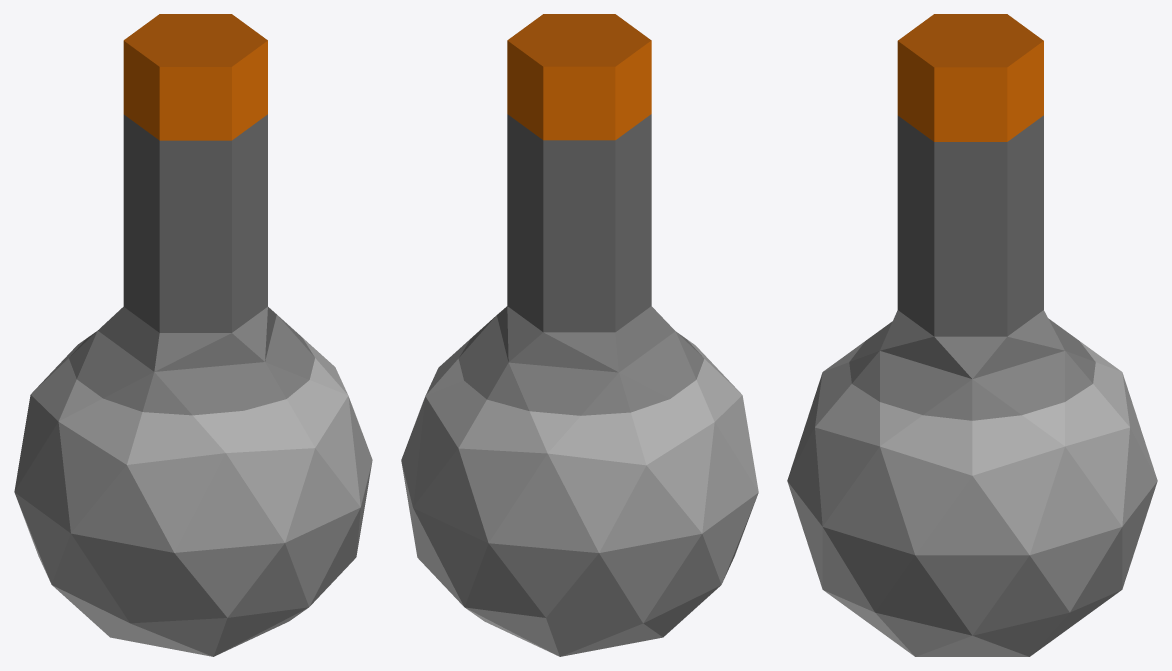
The model's file is potions_340x02.gltf.
3 views of the same model, side by side, from view 1: azimuth 30°, elevation 25°; view 2: azimuth 150°, elevation 25°; view 3: azimuth 270°, elevation 25° (orthographic).
Parts seen in each view (by area): view 1: potions_340x02; view 2: potions_340x02; view 3: potions_340x02.
Part boxes in pixels (<box>): potions_340x02: <box>14,14,372,656</box>; potions_340x02: <box>401,14,758,656</box>; potions_340x02: <box>787,14,1157,656</box>.
Bounding box in the file's own units: 0.497 × 0.9473 × 0.5225.
Materials: 2 (2 with a texture image).
